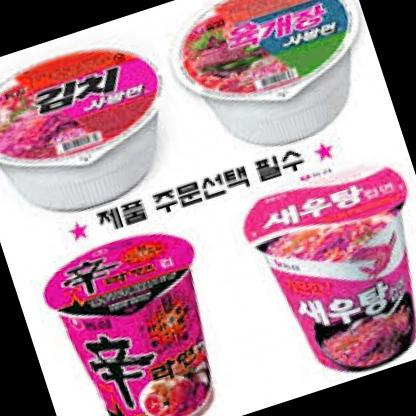Ramen: (32, 220, 243, 416), (0, 29, 186, 233), (163, 0, 386, 167)
